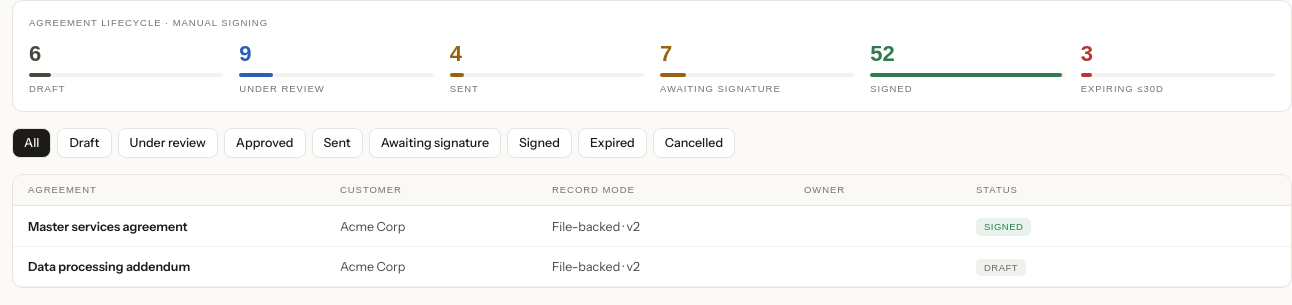
Test case: AgreementsPage › filtering by status refetches with ?status=
Expected: the link "Master services agreement" is shown, 28,219 -> 188,234
Step 1. Click the button "Draft" → (84, 143), box 57,128 -> 112,158
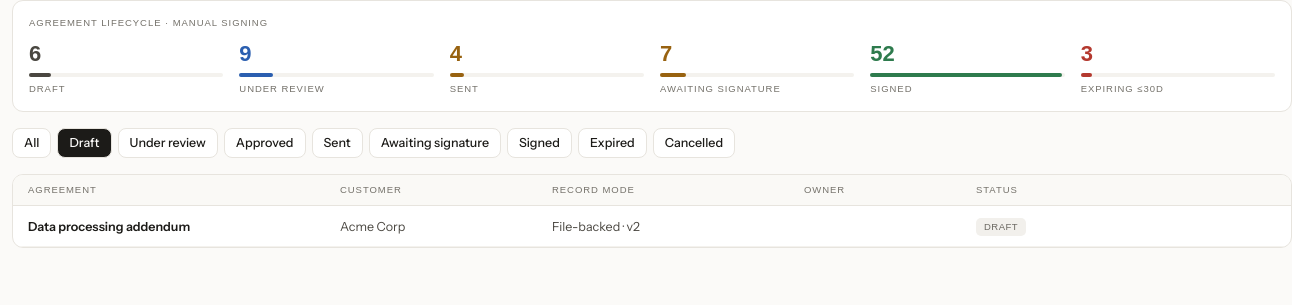
Result: the link "Master services agreement" is gone
